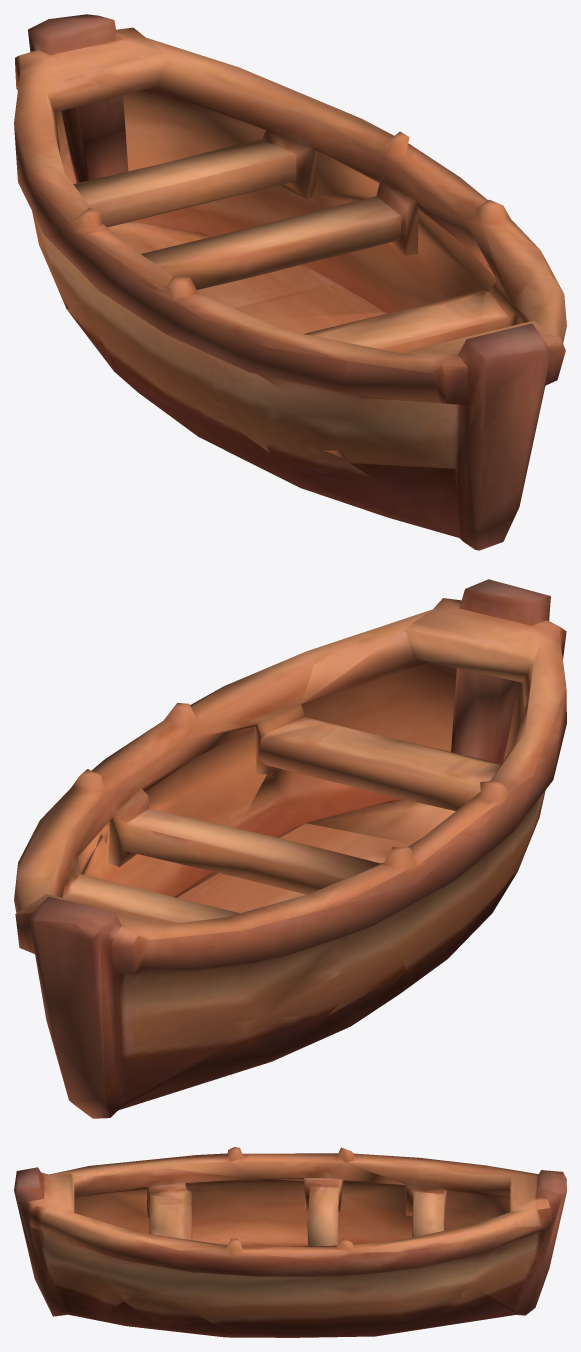
The model's file is sz-rowing-boat.glb.
3 renders of one model, top to bottom at view 1: azimuth 30°, elevation 25°; view 2: azimuth 150°, elevation 25°; view 3: azimuth 270°, elevation 25°, orthographic. The views are drawn at different scales.
Parts seen in each view (by area): view 1: geometry_0; view 2: geometry_0; view 3: geometry_0.
Boxes of the visible parts, x1,y1,x2,y2 form: geometry_0: (14, 14, 566, 550); geometry_0: (14, 579, 566, 1118); geometry_0: (14, 1147, 566, 1337).
Bounding box in the file's own units: 0.4482 × 0.2894 × 1.
Materials: 1 (1 with a texture image).
